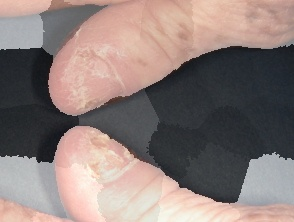Nail_psoriasis: (41, 31, 131, 126), (60, 109, 144, 196)
